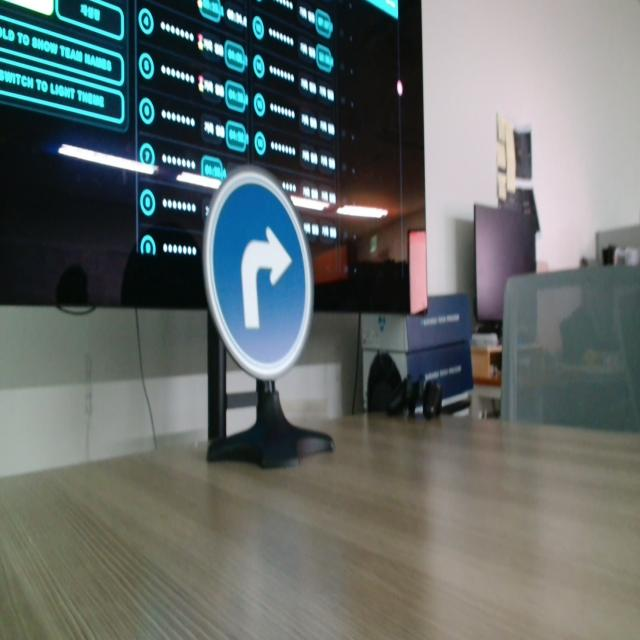right_dierection: (210, 151, 330, 383)
